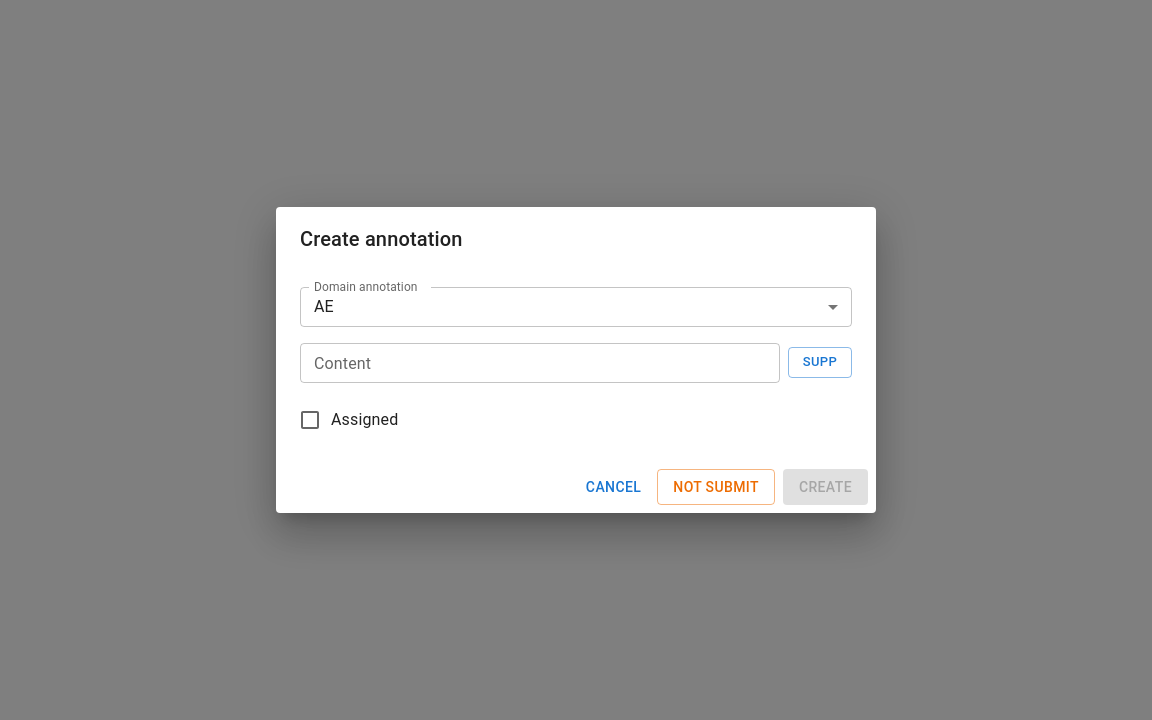
AnnotationDialog › clicking a variable inserts the variable's name (replacing @fragment)
This screenshot has width=1152, height=720.
In the field labelled "Content": (540, 363) [300,343,780,383], type "@age"
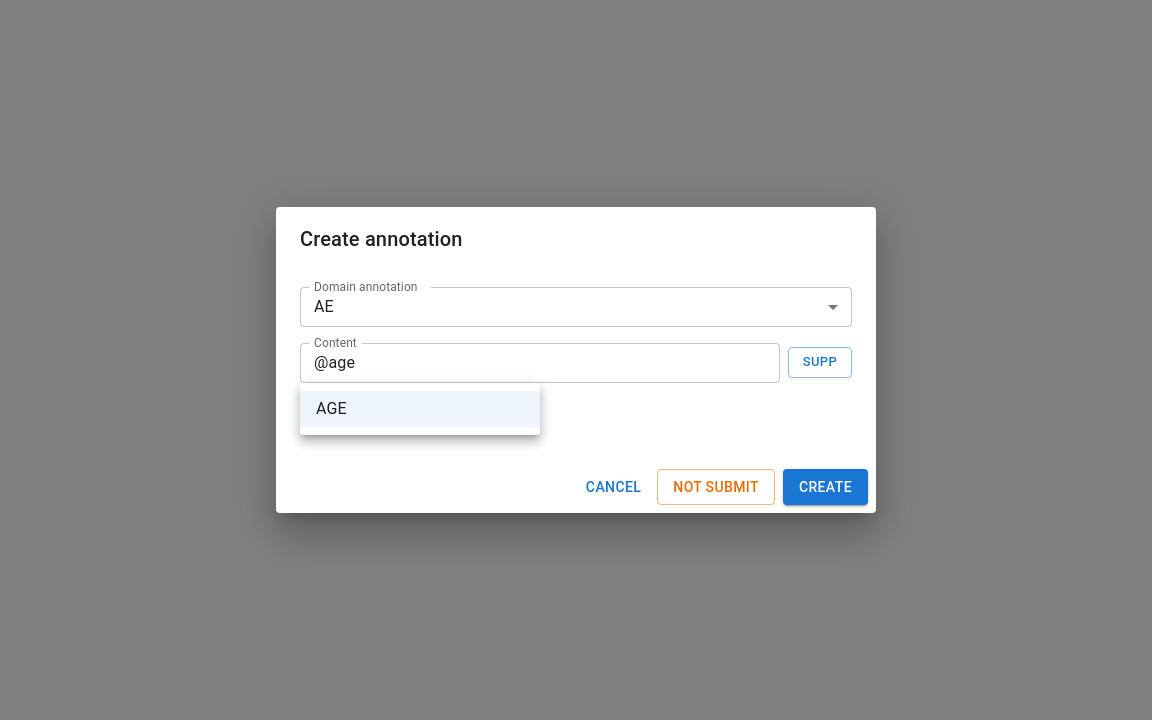
Check: the menu item with test id "crf-variable-3" is shown
Click the menu item with test id "crf-variable-3": (420, 409) [300,391,540,427]
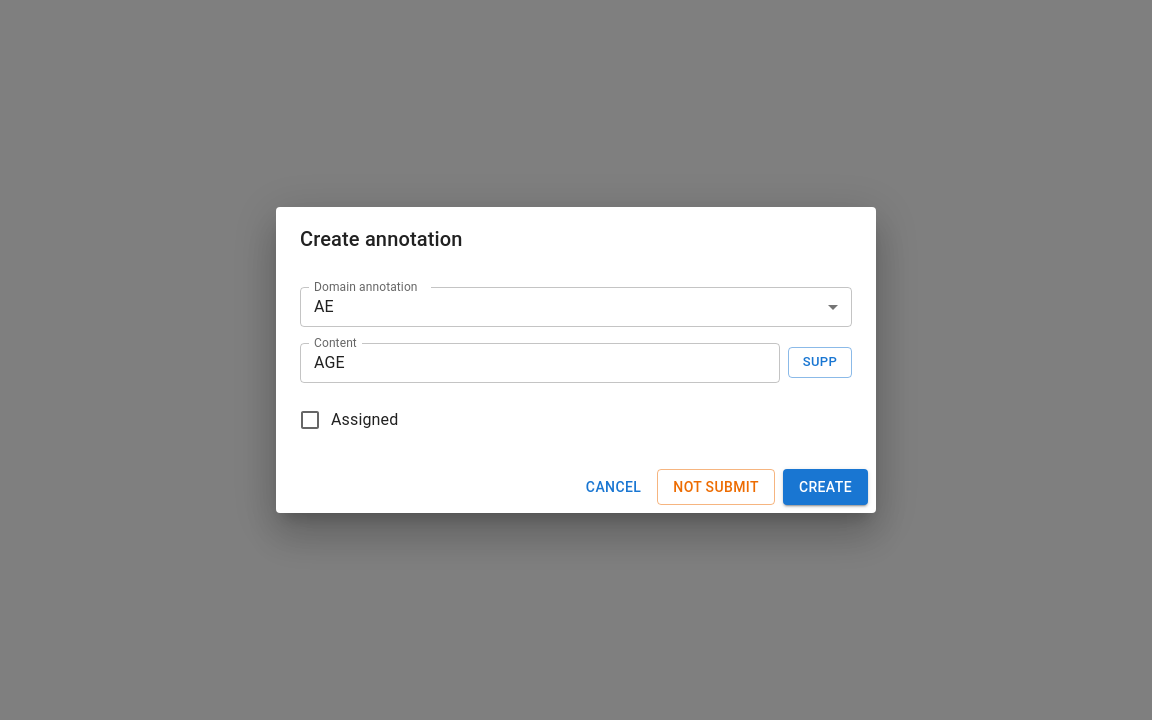
Check: the field labelled "Content" holds "AGE", box [300,343,780,383]
